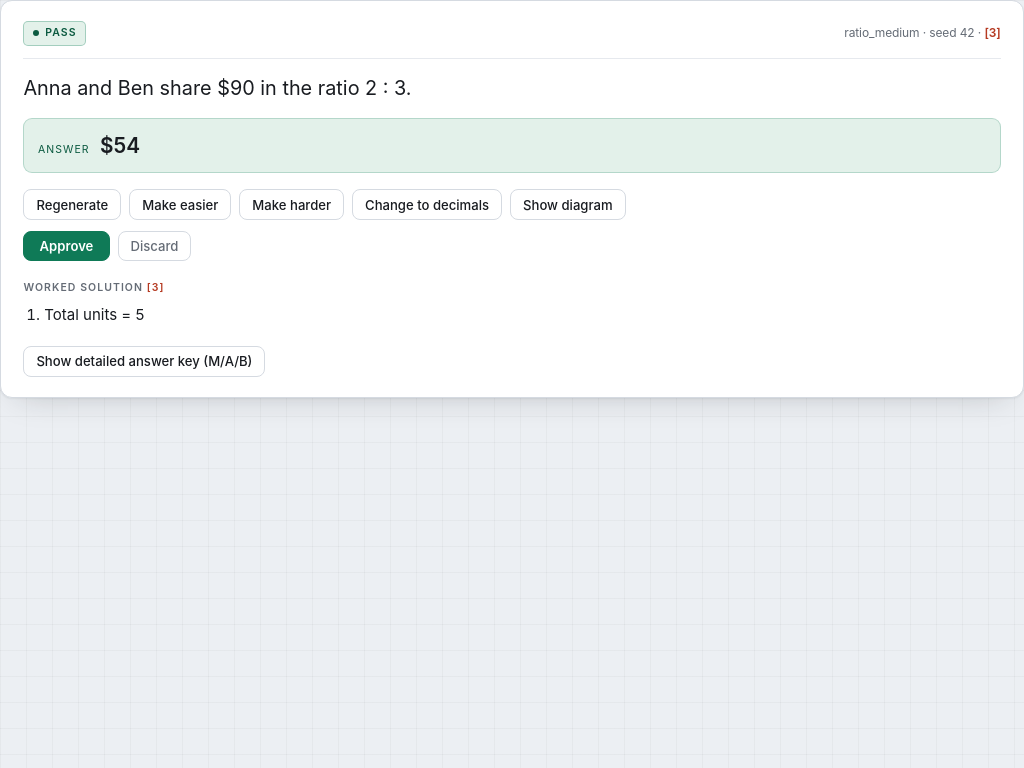
Test: QuestionCard › reveals the M/A/B marking scheme only after the toggle is clicked
The image size is (1024, 768).
Expected: the text "Finds 1 unit = $18" is not shown
Click the button "Show detailed answer key (M/A/B)".
click(144, 361)  # box 23,346 -> 266,377
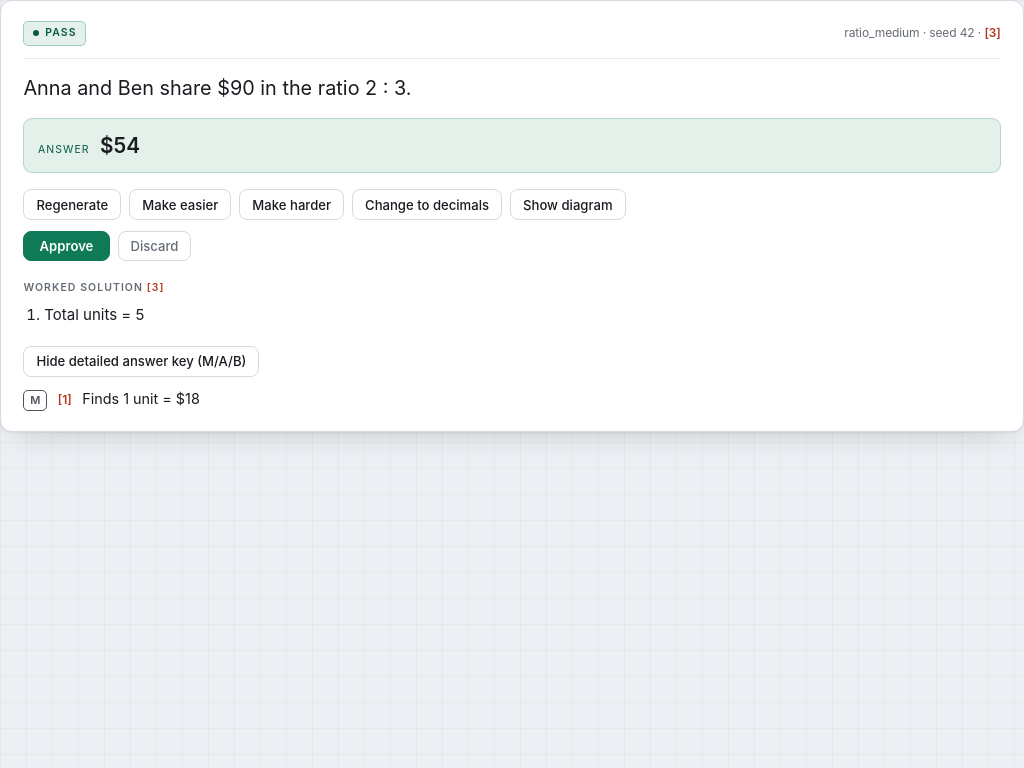
Now the list item "Finds 1 unit = $18" is shown, box 82,390 -> 200,407
Now the text "M" is shown, box 23,390 -> 47,411
